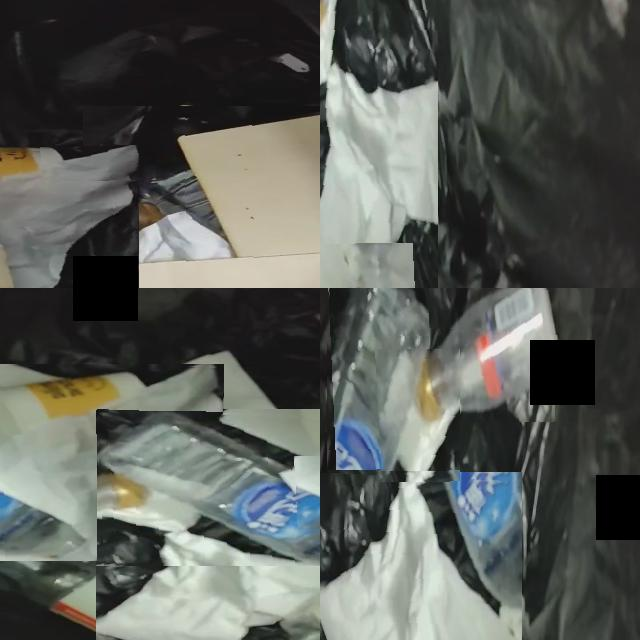bottle: (320, 288, 429, 601), (99, 412, 320, 561), (0, 525, 233, 640), (416, 288, 558, 422)
carton: (84, 117, 320, 288)
dixie_cup: (46, 373, 206, 440), (41, 144, 156, 181)
paper: (0, 367, 223, 561), (320, 0, 438, 288), (320, 476, 518, 640), (96, 529, 320, 640), (0, 154, 138, 288), (136, 352, 284, 448), (378, 350, 460, 482)
